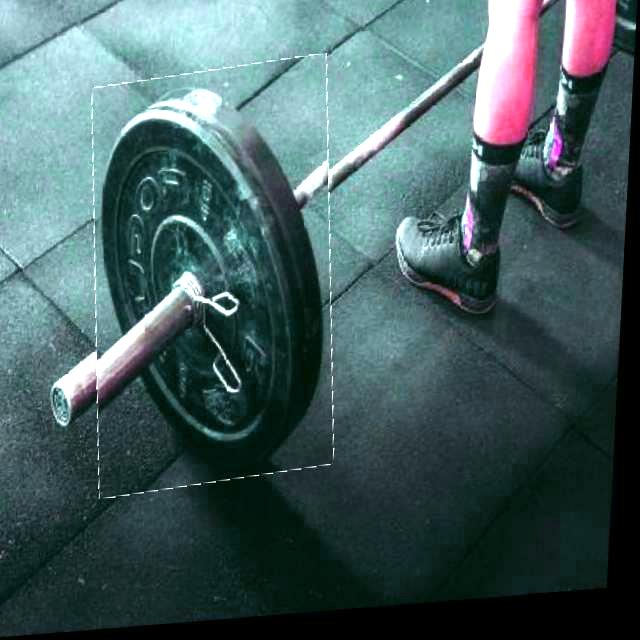barbell: (83, 61, 349, 500)
